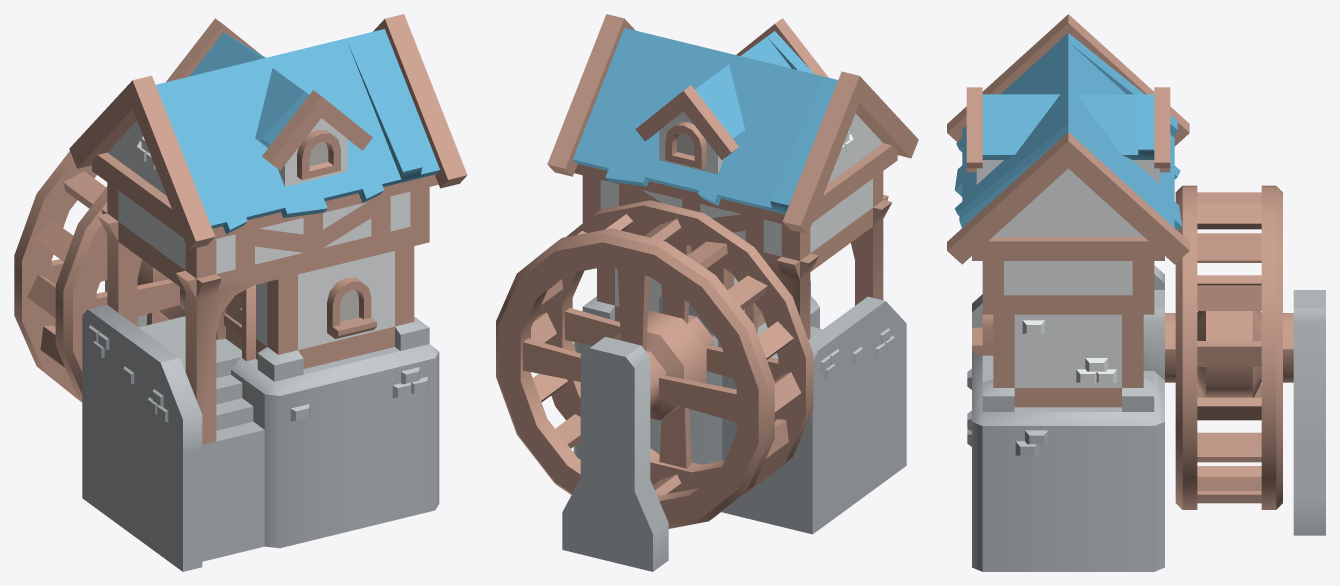
File: watermill_part.glb
The picture shows the model from 3 angles, left to right: view 1: azimuth 30°, elevation 25°; view 2: azimuth 150°, elevation 25°; view 3: azimuth 270°, elevation 25°; orthographic projection. The views are drawn at different scales.
Visible parts, largest first — view 1: X_building_watermill_blue, X_building_watermill_wheel_blue; view 2: X_building_watermill_blue, X_building_watermill_wheel_blue; view 3: X_building_watermill_blue, X_building_watermill_wheel_blue.
Part boxes in pixels (left/top/right/bottom): X_building_watermill_blue: left=69, top=14, right=467, bottom=571; X_building_watermill_wheel_blue: left=14, top=151, right=185, bottom=402; X_building_watermill_blue: left=547, top=14, right=918, bottom=571; X_building_watermill_wheel_blue: left=496, top=200, right=813, bottom=528; X_building_watermill_blue: left=947, top=14, right=1325, bottom=571; X_building_watermill_wheel_blue: left=1165, top=185, right=1293, bottom=509.
Bounding box in the file's own units: 1.05 × 1.57 × 1.24.
